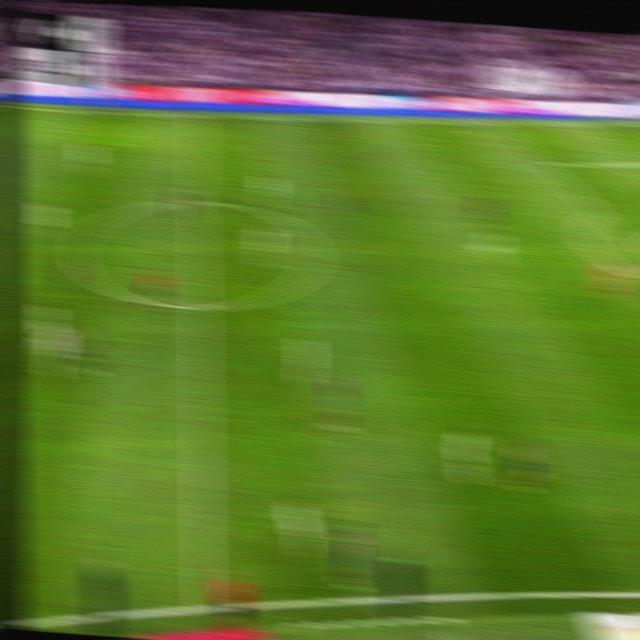bigarea_top_inner: (535, 155, 555, 172)
corner: (624, 116, 640, 129)
halfcircle_bottom: (187, 291, 213, 321)
halfcircle_top: (185, 188, 211, 213)
midline_bottom_intersection: (189, 586, 219, 621)
midline_top_intersection: (187, 106, 207, 122)
top_arc_area_intersection: (587, 203, 608, 221)
